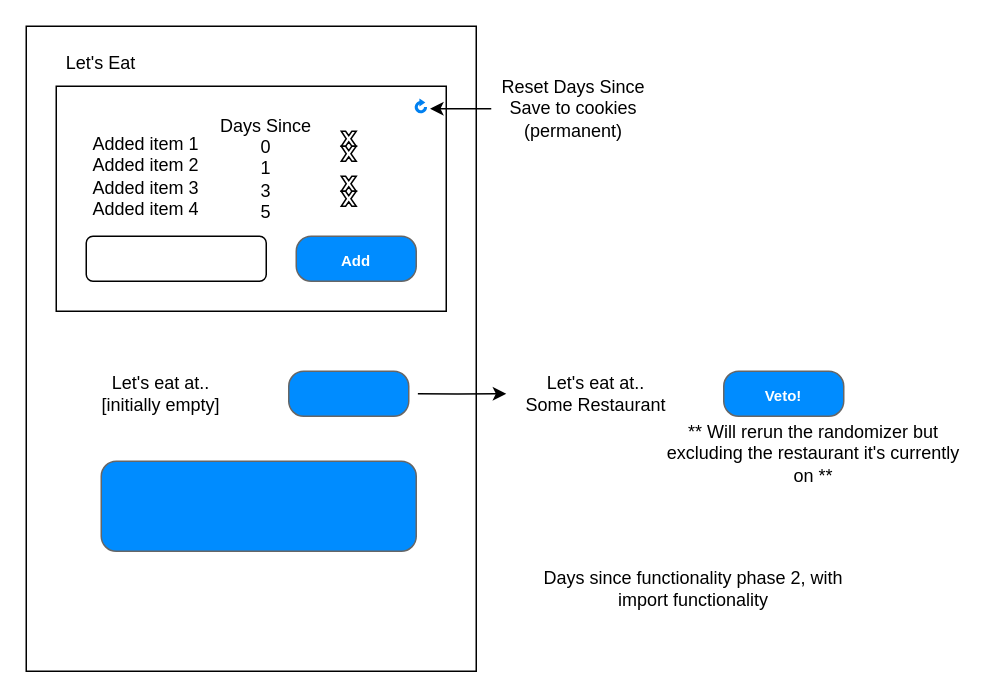
This 998x698 diagram has some shape labels left out. The shapes that lost their labels are listed below. From the top down, each one's centre as x and y in pixels, then its label:
At [348,393]: "Decide for me".
At [258,505]: "Button that for stating we ate at a restaurant; Days since -> 0".
